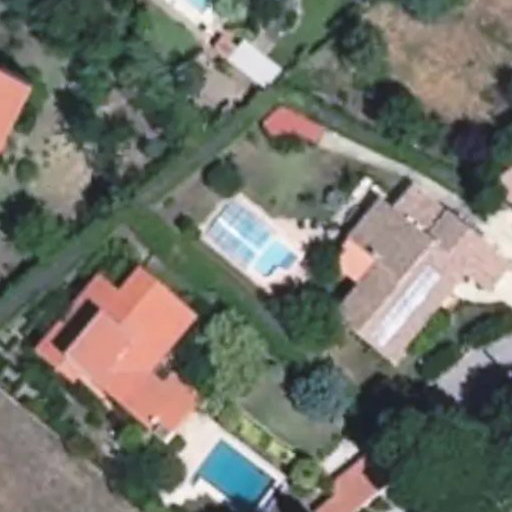pool: (210, 232, 298, 257)
